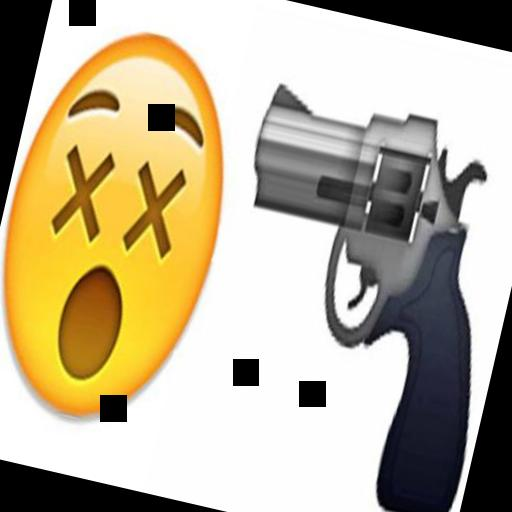Handgun: (180, 60, 512, 512)
